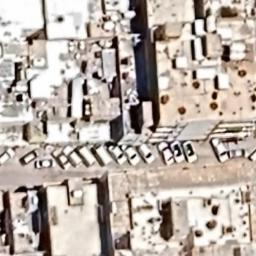SUV: (61, 142, 84, 168), (0, 145, 18, 169)
sedan: (210, 138, 231, 165), (106, 142, 128, 166), (50, 147, 72, 171), (121, 142, 141, 168), (135, 142, 156, 166), (156, 140, 175, 166), (17, 148, 41, 168), (169, 139, 187, 164), (182, 139, 199, 165), (33, 158, 60, 170)
truck: (90, 142, 114, 168), (74, 142, 96, 168)
